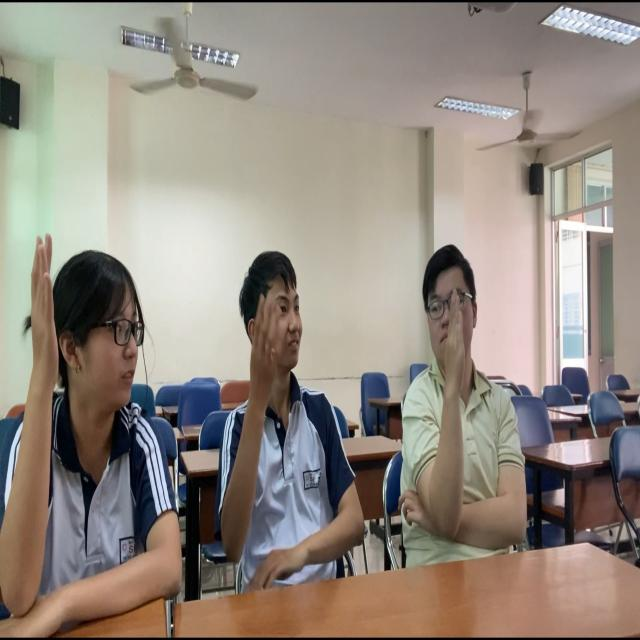raise_hand: (2, 211, 217, 636), (387, 227, 551, 595)
